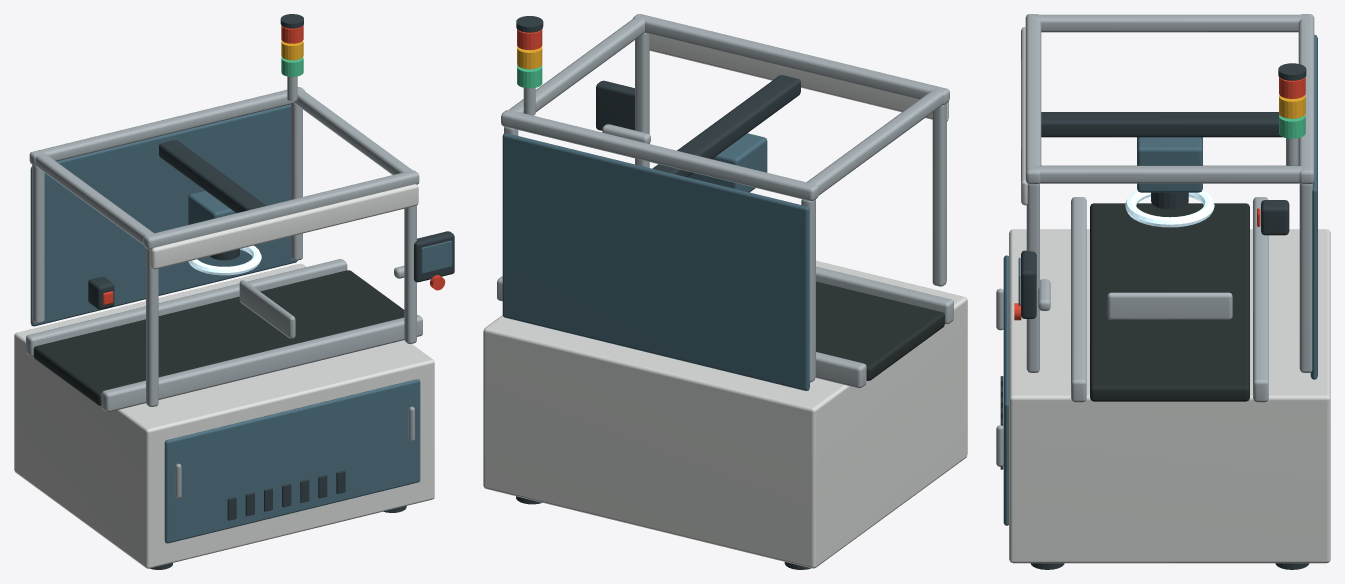
Rendered from vision-cell.glb.
3 views of the same model, side by side, from view 1: azimuth 30°, elevation 25°; view 2: azimuth 150°, elevation 25°; view 3: azimuth 270°, elevation 25° (orthographic). The views are drawn at different scales.
Parts seen in each view (by area): view 1: Cabinet, Rear_guard, Front_panel, Belt, Conveyor_rail.001, Safety_header, Frame_top.001, Conveyor_rail, Frame_top, Camera_bridge, Frame_cross, Frame_cross.001 (+10 smaller); view 2: Cabinet, Rear_guard, Belt, Frame_top, Frame_top.001, Safety_header, Camera_bridge, Frame_cross, Frame_post.001, Frame_cross.001, Conveyor_rail.001, Camera_body (+4 smaller); view 3: Cabinet, Belt, Camera_bridge, Frame_cross.001, Frame_cross, Stopper, Conveyor_rail.001, Conveyor_rail, Frame_top.001, Frame_post.002, Camera_body, Frame_top (+12 smaller).
Boxes of the visible parts, x1,y1,x2,y2 form: Cabinet: (14, 263, 434, 568); Rear_guard: (30, 104, 297, 326); Front_panel: (164, 379, 420, 543); Belt: (33, 270, 404, 405); Conveyor_rail.001: (101, 315, 422, 411); Safety_header: (151, 184, 418, 269); Frame_top.001: (143, 170, 419, 249); Conveyor_rail: (26, 259, 347, 356); Frame_top: (29, 87, 304, 166); Camera_bridge: (159, 140, 266, 212); Frame_cross: (35, 151, 154, 244); Frame_cross.001: (294, 88, 413, 174); Cabinet: (483, 260, 967, 568); Rear_guard: (502, 133, 809, 390); Belt: (816, 281, 944, 380); Frame_top: (501, 110, 818, 201); Frame_top.001: (633, 14, 949, 104); Safety_header: (649, 34, 948, 121); Camera_bridge: (652, 75, 800, 176); Frame_cross: (806, 88, 942, 195); Frame_post.001: (932, 103, 946, 286); Frame_cross.001: (508, 15, 645, 113); Conveyor_rail.001: (816, 266, 953, 324); Camera_body: (687, 133, 767, 192); Cabinet: (1009, 229, 1330, 563); Belt: (1090, 203, 1249, 401); Camera_bridge: (1041, 112, 1282, 137); Frame_cross.001: (1032, 165, 1307, 183); Frame_cross: (1032, 14, 1307, 32); Stopper: (1107, 292, 1232, 319); Conveyor_rail.001: (1071, 197, 1086, 402); Conveyor_rail: (1253, 197, 1268, 402); Frame_top.001: (1025, 14, 1041, 184); Frame_post.002: (1299, 183, 1312, 372); Camera_body: (1137, 137, 1202, 192); Frame_top: (1298, 14, 1314, 184).
Size of the model in its own units: 2.9 by 3.48 by 2.13.
